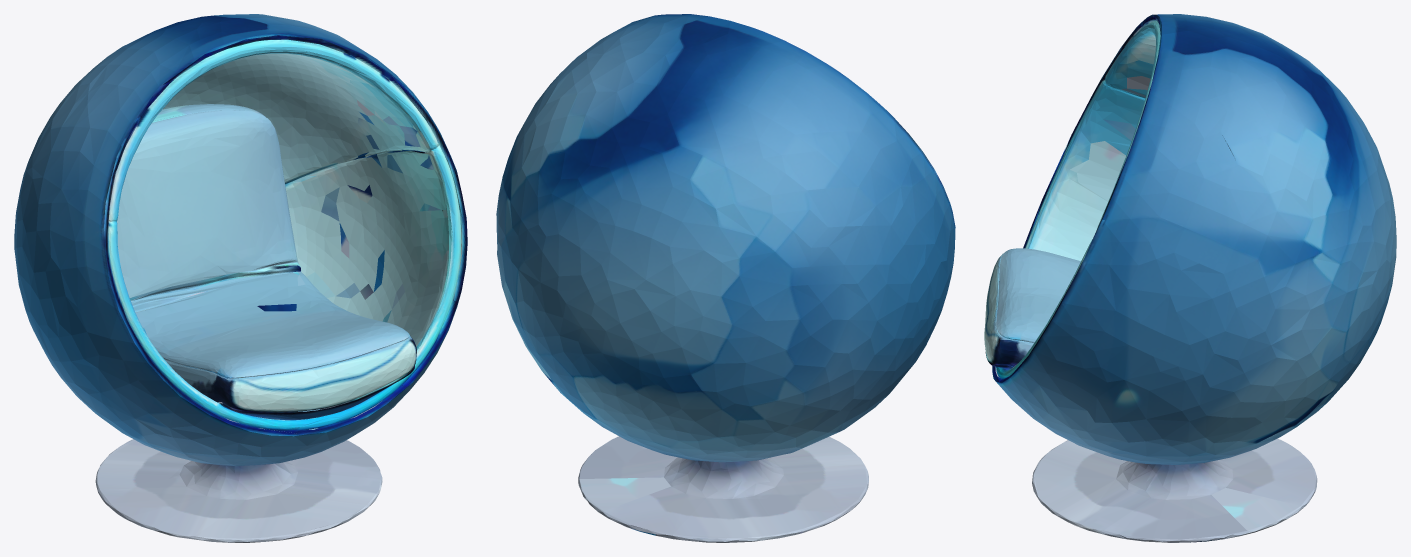
Rendered from edited_mesh.glb.
The picture shows the model from 3 angles, left to right: view 1: azimuth 30°, elevation 25°; view 2: azimuth 150°, elevation 25°; view 3: azimuth 270°, elevation 25°; orthographic projection.
Parts seen in each view (by area): view 1: solid_001_wire; view 2: solid_001_wire; view 3: solid_001_wire.
Boxes of the visible parts, bbox=[...] form: solid_001_wire: bbox=[14, 14, 467, 542]; solid_001_wire: bbox=[496, 14, 955, 542]; solid_001_wire: bbox=[984, 14, 1396, 542].
Bounding box in the file's own units: 1.25 × 1.37 × 1.15.
1 material, 1 textured.
